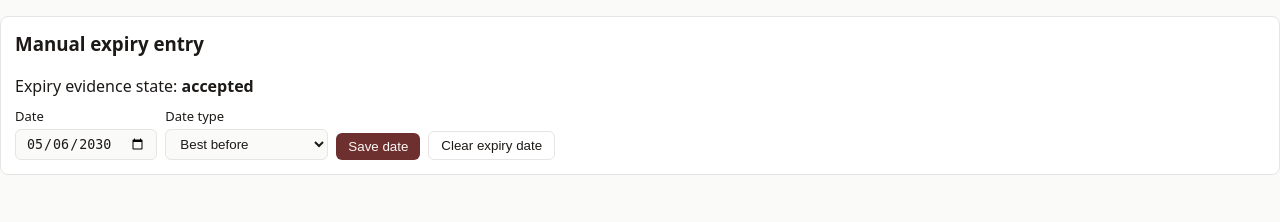
Scenario: ExpiryEntryForm › pre-fills the active accepted date and saves a change with the active token
The width and height of the screenshot is (1280, 222).
Expected: the text with test id "expiry-state" reads "accepted", [182,75,254,97]
Expected: the dropdown labelled "Date type" shows "Best before", [165,129,328,160]
In the date field labelled "Date": (86, 144) [15,129,157,160], type "2030-06-06"
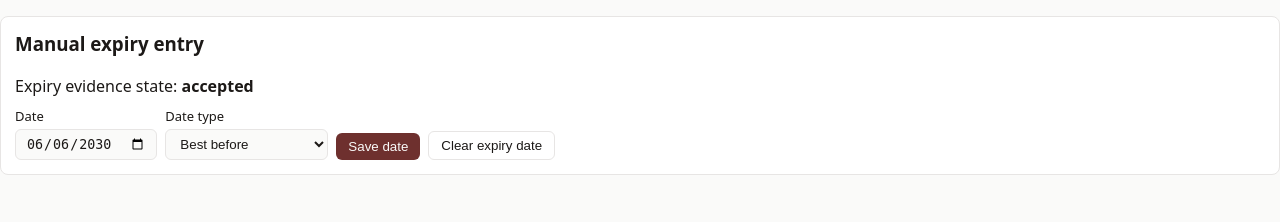
Click the button "Save date": (378, 146) [336,133,420,160]
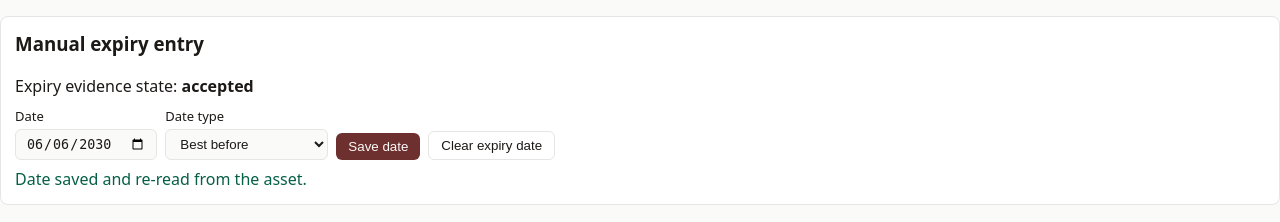
Expected: the text "Date saved and re-read from the asset." is shown, [15,168,307,190]
